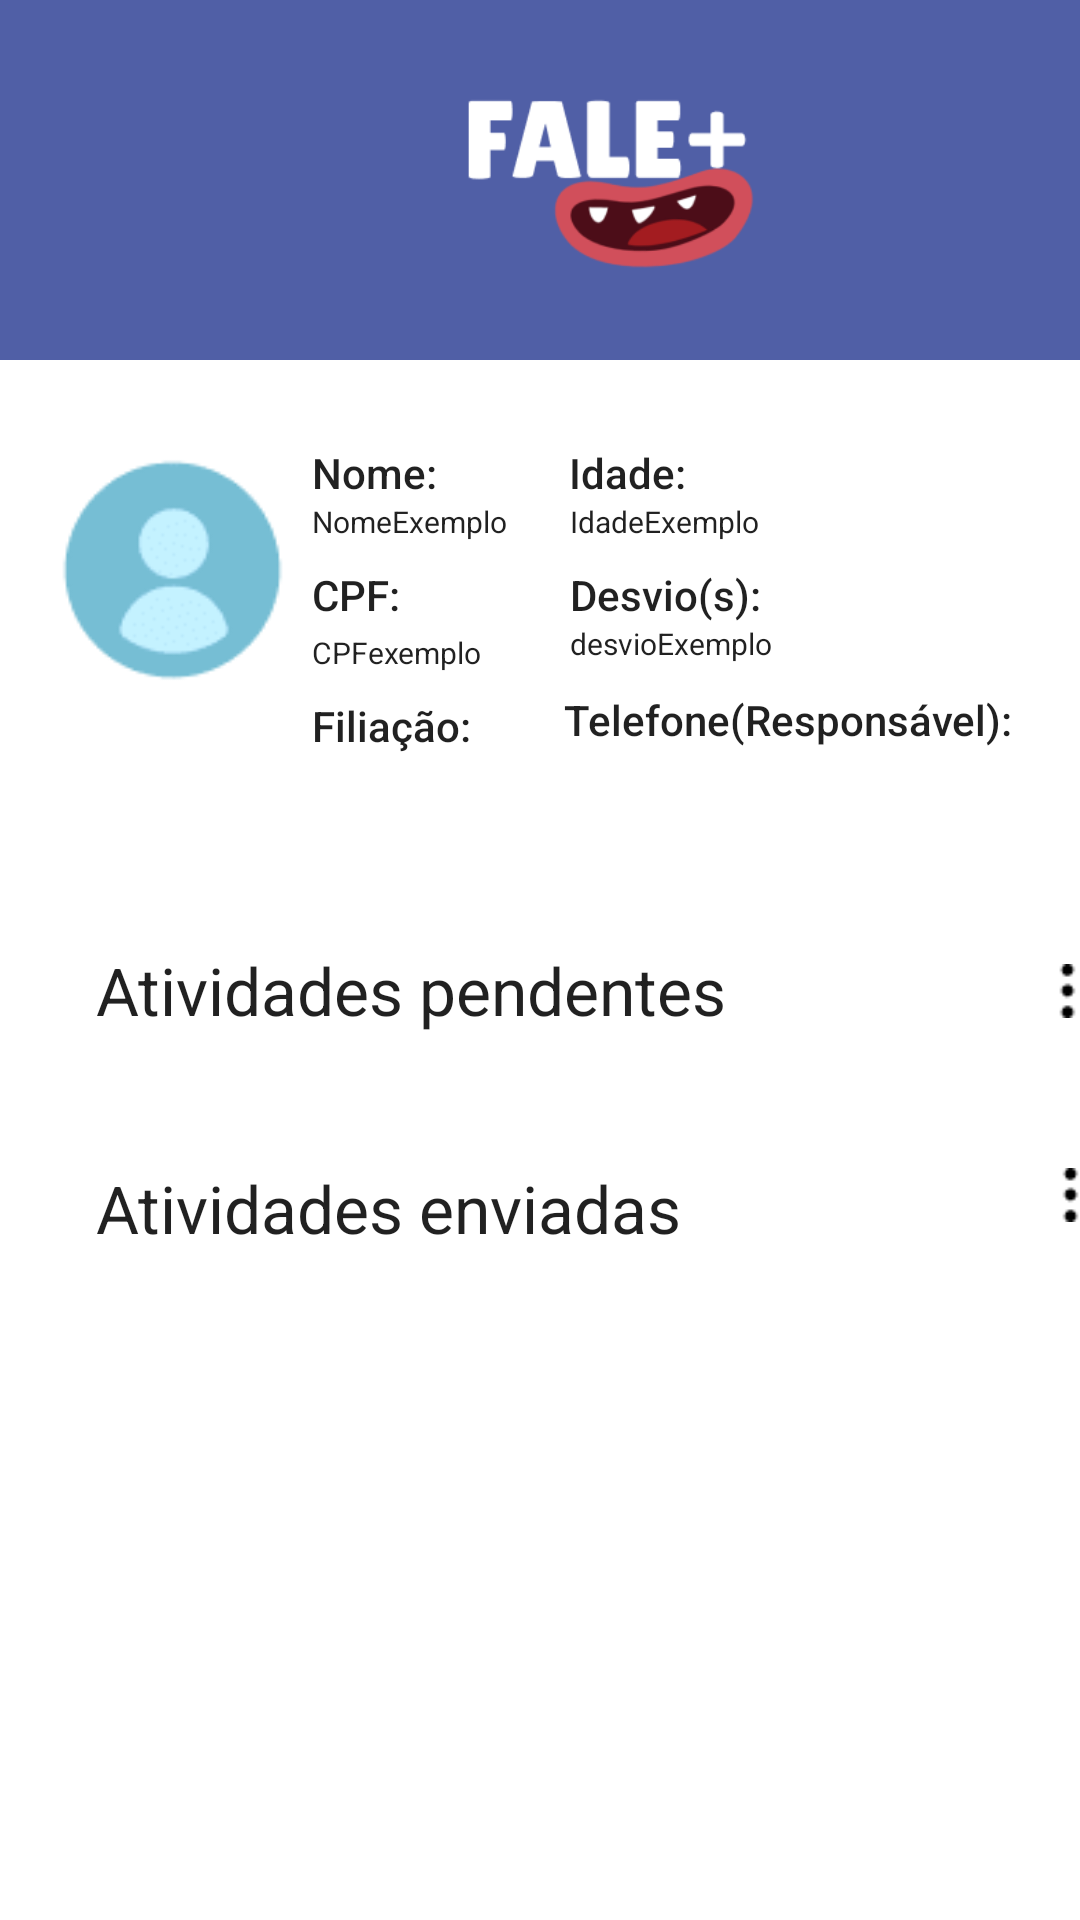

Where to tap for icons on this 1080 × 1920 app screen, as (x,y):
perfil: (172,570)
